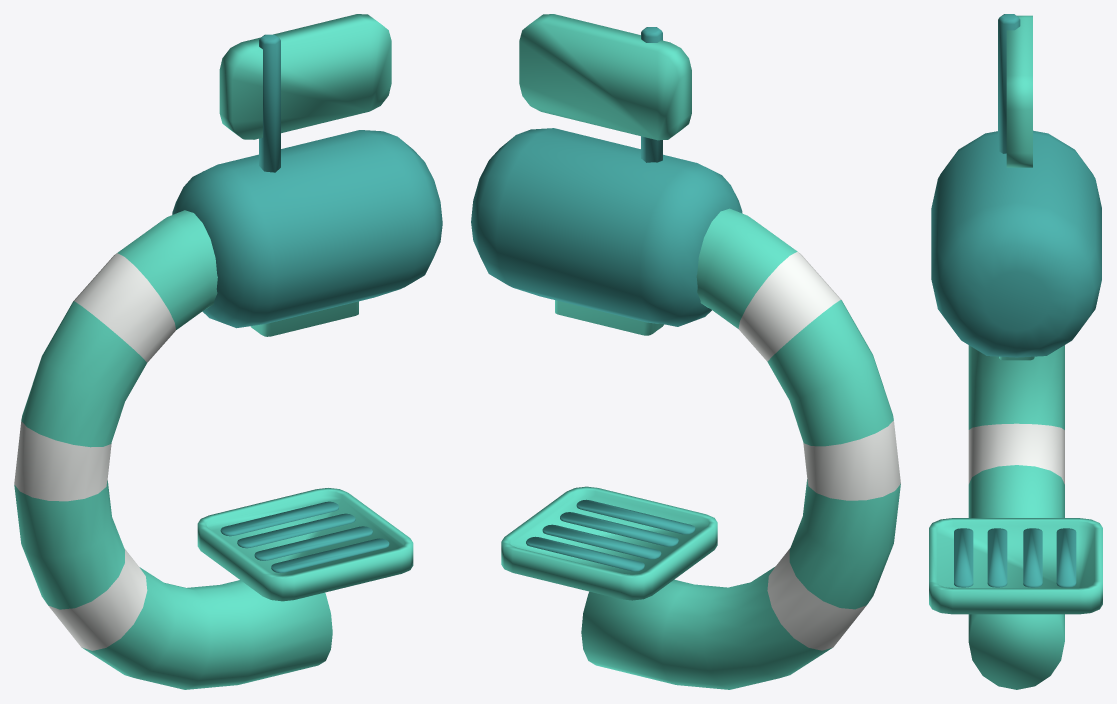
Rendered from Liquid food machine2.fbx.
3 renders of one model, left to right at view 1: azimuth 30°, elevation 25°; view 2: azimuth 150°, elevation 25°; view 3: azimuth 270°, elevation 25°, orthographic. The views are drawn at different scales.
Visible parts, largest first — view 1: Cylinder.031, Cylinder.032, Cube.085, Cube.086, Cylinder.033, Cube.089, Cube.087, Cube.088, Cube.090; view 2: Cylinder.031, Cylinder.032, Cube.085, Cube.086, Cube.089, Cube.087, Cube.090, Cube.088, Cylinder.033; view 3: Cylinder.032, Cylinder.031, Cube.086, Cube.085, Cylinder.033, Cube.088, Cube.090, Cube.089, Cube.087.
Part boxes in pixels (x1,y1,x2,y2): Cylinder.031: (14,210,332,689); Cylinder.032: (172,130,442,336); Cube.085: (219,14,391,139); Cube.086: (197,488,413,601); Cylinder.033: (259,34,280,172); Cube.089: (271,538,389,572); Cube.087: (237,513,355,548); Cube.088: (254,526,372,560); Cube.090: (220,501,338,536); Cylinder.031: (581,208,900,689); Cylinder.032: (471,128,742,335); Cube.085: (519,14,691,140); Cube.086: (501,486,717,600); Cube.089: (576,499,695,534); Cube.087: (542,524,661,559); Cube.090: (526,536,644,571); Cube.088: (560,512,678,546); Cylinder.033: (641,27,662,162); Cylinder.032: (931,130,1101,360); Cylinder.031: (968,345,1064,689); Cube.086: (929,518,1102,614); Cube.085: (1006,15,1032,167); Cylinder.033: (998,14,1020,153); Cube.088: (987,528,1007,587); Cube.090: (1056,528,1076,587); Cube.089: (954,528,973,587); Cube.087: (1023,528,1042,587).
Bounding box in the file's own units: 126 × 193 × 46.56.
